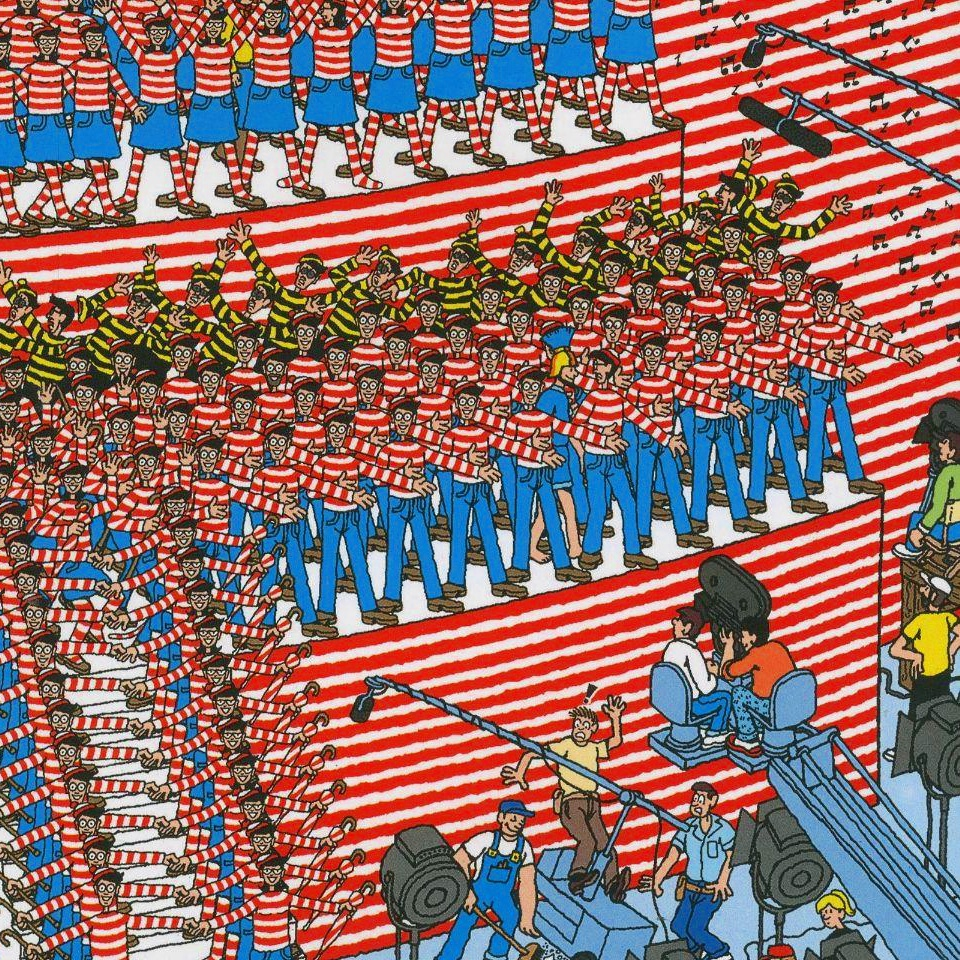waldo: (807, 276, 860, 379), (260, 420, 311, 516), (190, 432, 237, 530), (450, 377, 494, 478), (635, 332, 680, 430), (693, 316, 739, 410), (515, 365, 558, 457), (386, 394, 427, 490), (89, 867, 129, 960), (753, 295, 789, 398), (323, 409, 364, 494), (288, 374, 333, 447), (319, 333, 361, 410), (413, 349, 458, 420), (659, 289, 702, 363), (131, 440, 164, 530), (776, 252, 816, 325), (101, 404, 138, 477), (717, 272, 755, 341), (226, 380, 261, 453), (227, 321, 266, 386), (164, 329, 201, 396), (383, 321, 416, 395), (411, 287, 447, 354), (564, 284, 601, 349), (627, 268, 665, 330), (747, 233, 786, 293), (656, 229, 695, 289), (289, 310, 324, 376), (350, 299, 386, 363), (353, 362, 385, 432), (505, 293, 536, 364), (444, 311, 475, 382), (196, 357, 228, 425), (106, 337, 137, 406), (715, 213, 751, 270), (594, 248, 632, 301), (691, 250, 724, 311), (474, 274, 508, 331), (132, 366, 161, 432), (535, 262, 566, 319), (162, 396, 190, 459), (472, 332, 506, 377), (597, 302, 630, 343), (59, 764, 91, 805), (26, 628, 56, 669), (47, 729, 80, 766), (68, 371, 95, 415), (1, 531, 35, 564), (46, 700, 79, 733), (79, 835, 111, 869), (18, 591, 47, 627), (33, 666, 64, 699), (71, 803, 98, 836), (0, 498, 24, 531), (62, 344, 89, 371), (18, 562, 40, 594), (0, 458, 13, 498)
